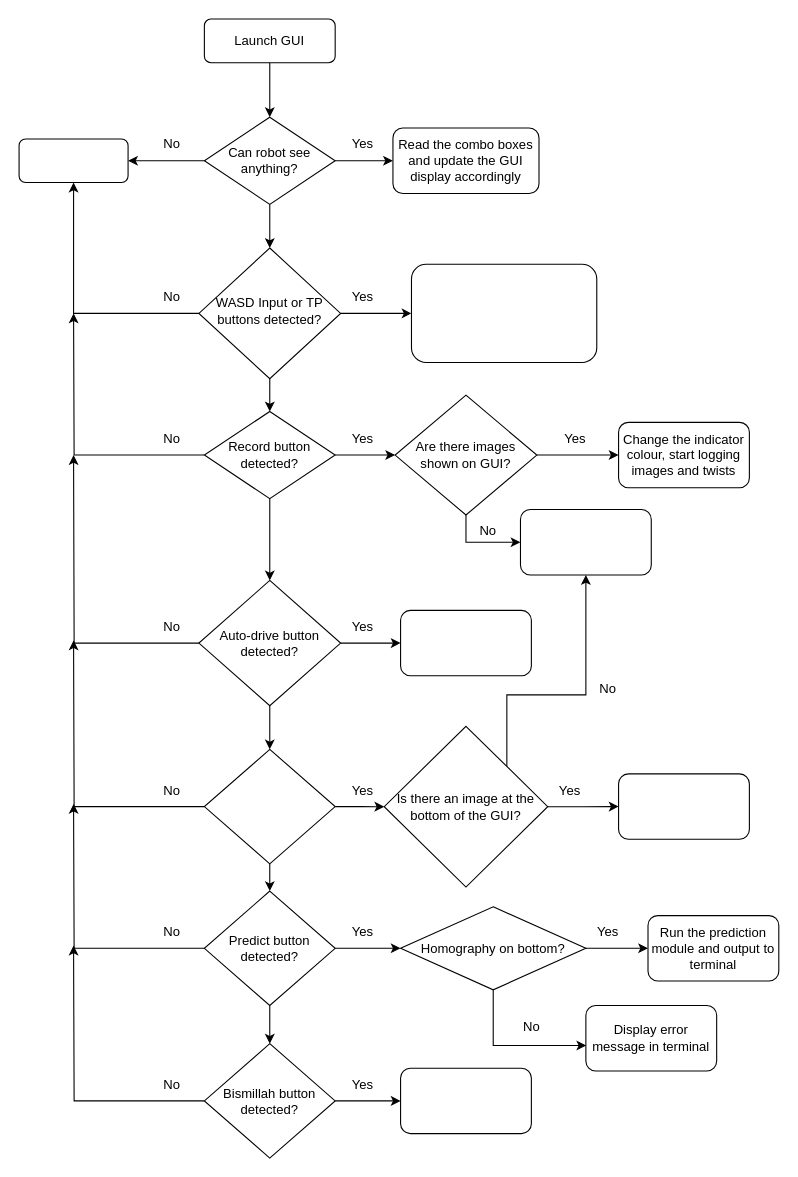
Image size: 798x1177. Some labels were removed from this diagram. The centre of each missing label's shape, as x and y in pixels:
Do nothing: the point at 73,160
Move robot accordingly (TP module or movement function): the point at 503,312
Run the competition!: the point at 465,1100
Save button detected?: the point at 269,806
Save current image displayed on bottom of GUI: the point at 683,806
Skip logging this instance: the point at 585,541
Start imitation learning driving: the point at 465,642
